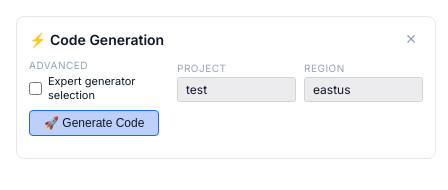
Test: CodePreview › hides generator selector by default and shows it when Advanced is enabled
Click the checkbox labelled "Expert generator selection".
click(36, 88)  # box 29,82 -> 42,94
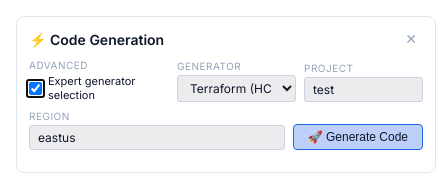
Expected: the dropdown is shown, 177,75 -> 296,102
